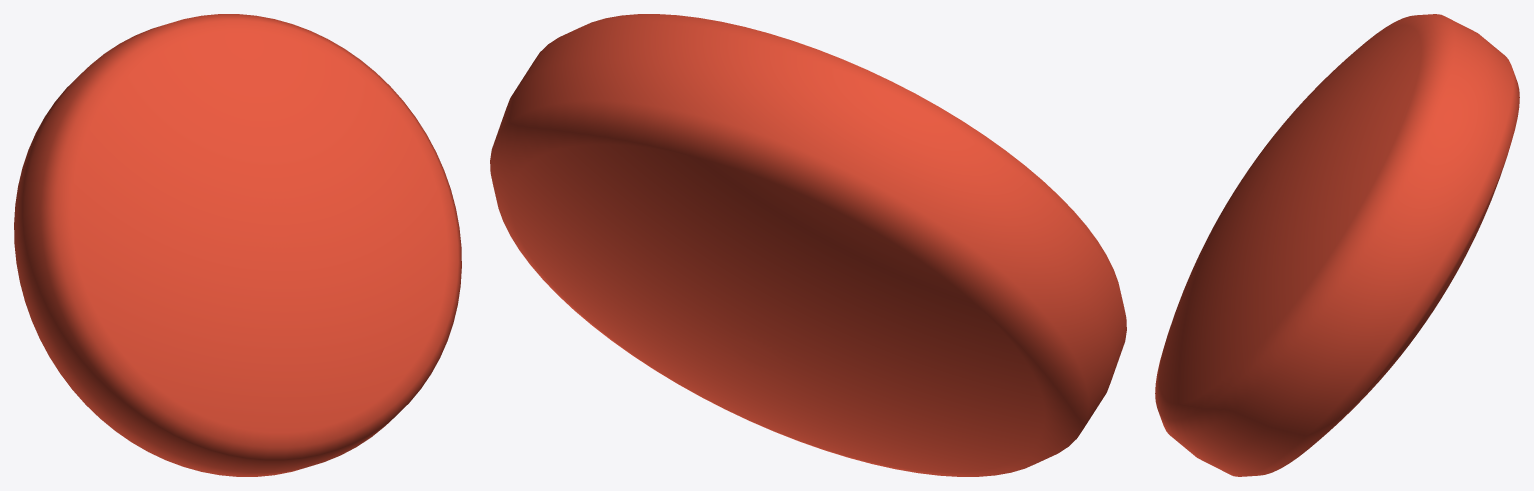
The model's file is lighttelephone.obj.
3 views of the same model, side by side, from view 1: azimuth 30°, elevation 25°; view 2: azimuth 150°, elevation 25°; view 3: azimuth 270°, elevation 25° (orthographic). The views are drawn at different scales.
Visible parts, largest first — view 1: SimpleRotaryPhone:PhoneRotaryRotary_Joint; view 2: SimpleRotaryPhone:PhoneRotaryRotary_Joint; view 3: SimpleRotaryPhone:PhoneRotaryRotary_Joint.
Boxes of the visible parts, x1,y1,x2,y2 form: SimpleRotaryPhone:PhoneRotaryRotary_Joint: (14, 14, 461, 476); SimpleRotaryPhone:PhoneRotaryRotary_Joint: (490, 14, 1126, 476); SimpleRotaryPhone:PhoneRotaryRotary_Joint: (1155, 14, 1519, 476).
Bounding box in the file's own units: 0.0516 × 0.0455 × 0.037.
1 material, 1 textured.
